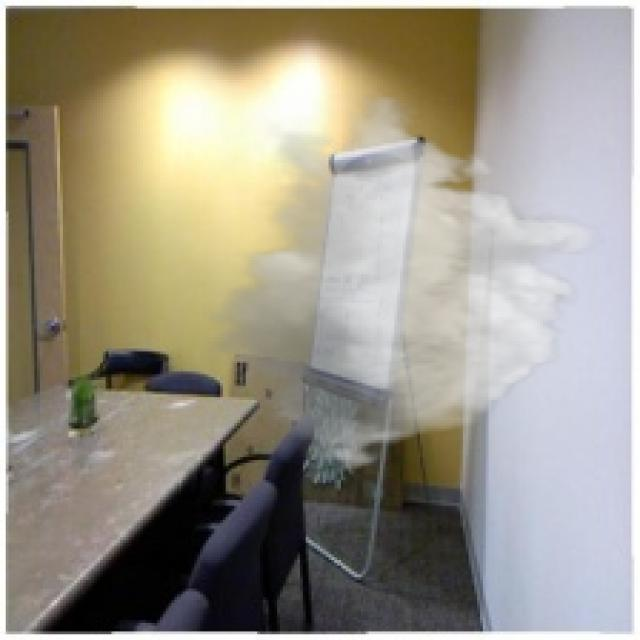Smoke: (203, 94, 606, 474)
